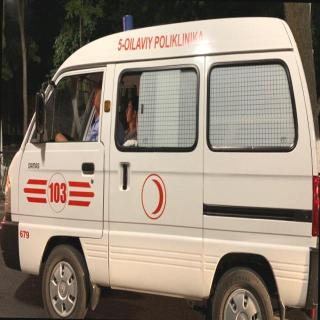Ambulance: (0, 6, 320, 316)
